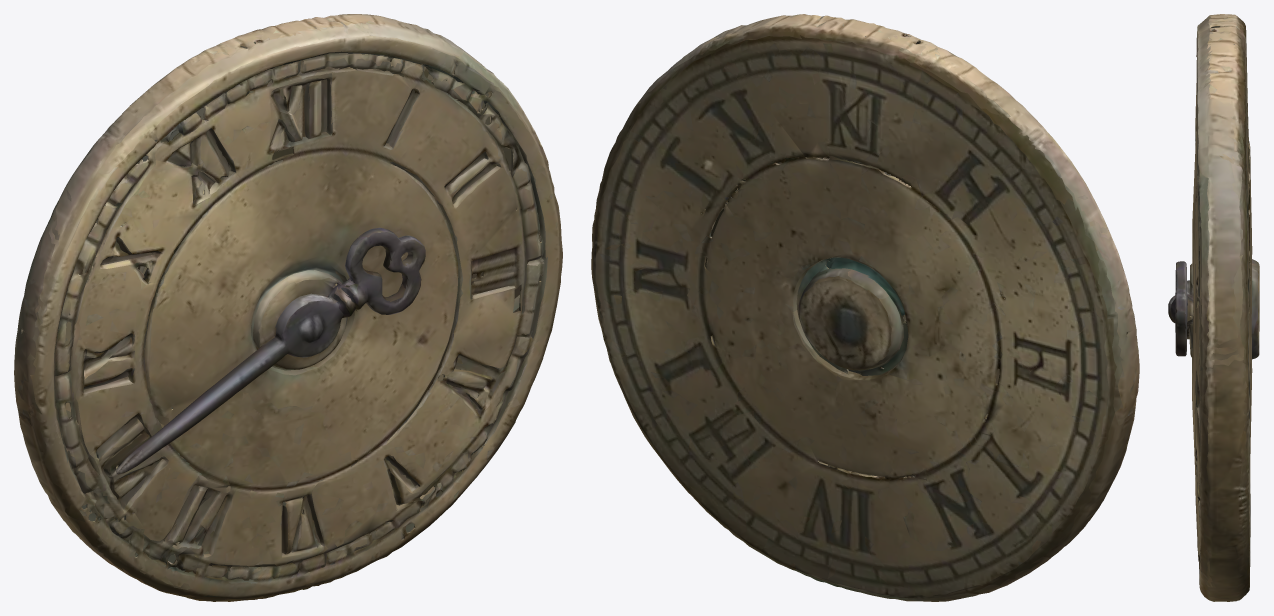
File: obj_basement_dial_3.glb
3 renders of one model, left to right at view 1: azimuth 30°, elevation 25°; view 2: azimuth 150°, elevation 25°; view 3: azimuth 270°, elevation 25°, orthographic. The views are drawn at different scales.
Visible parts, largest first — view 1: geometry_0; view 2: geometry_0; view 3: geometry_0.
Part boxes in pixels (x1=…): geometry_0: x1=14, y1=14, x2=562, y2=601; geometry_0: x1=591, y1=14, x2=1139, y2=601; geometry_0: x1=1168, y1=14, x2=1259, y2=601.
Bounding box in the file's own units: 0.15 × 0.15 × 0.0236.
1 material, 1 textured.
